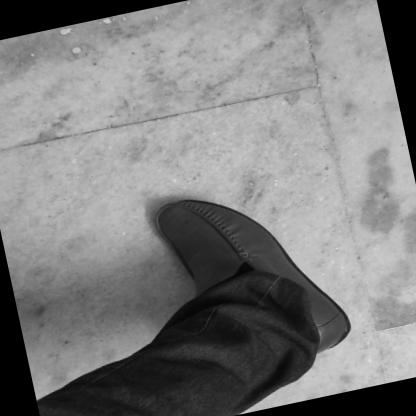ankle: (269, 313, 274, 318)
heel: (333, 339, 339, 344)
left_foot: (152, 173, 355, 380)
pinky: (205, 208, 212, 211)
toe: (165, 228, 171, 232)
